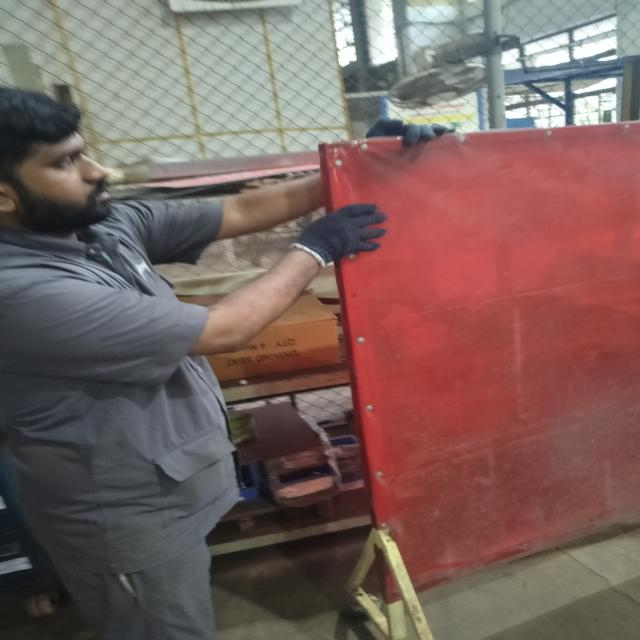Gloves-Detection: (290, 201, 386, 266), (363, 114, 452, 146)
